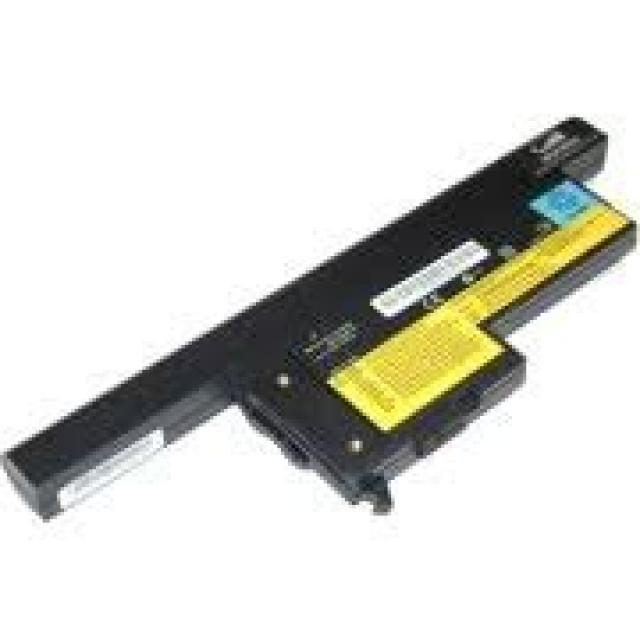battery: (0, 110, 640, 523)
